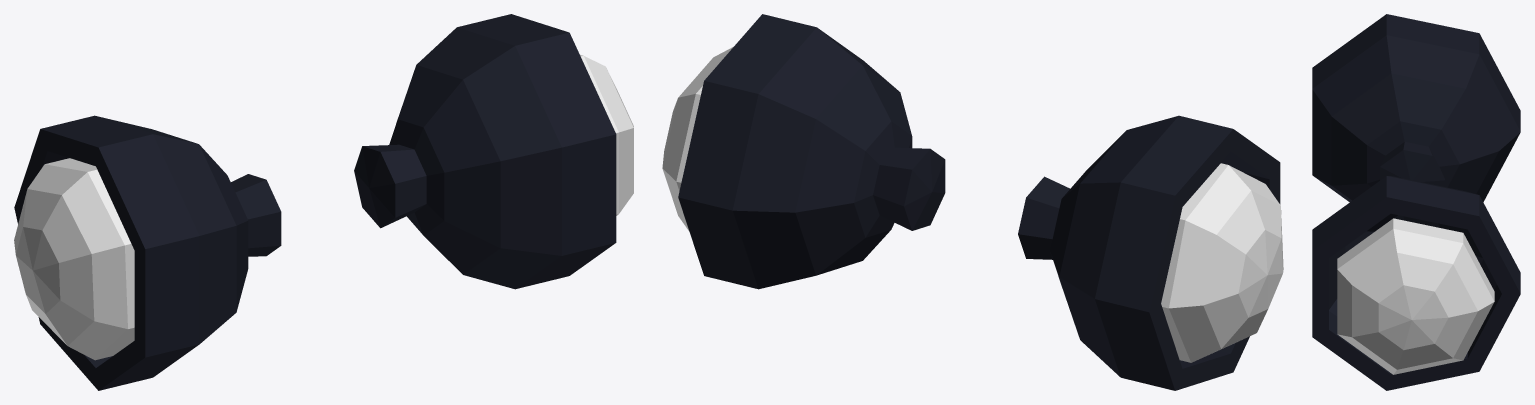
Rendered from WallDoorLight.fbx.
The picture shows the model from 3 angles, left to right: view 1: azimuth 30°, elevation 25°; view 2: azimuth 150°, elevation 25°; view 3: azimuth 270°, elevation 25°; orthographic projection. The views are drawn at different scales.
Visible parts, largest first — view 1: WallDoorLight; view 2: WallDoorLight; view 3: WallDoorLight.
Boxes of the visible parts, left/top/right/bottom form: WallDoorLight: left=14, top=14, right=633, bottom=390; WallDoorLight: left=662, top=14, right=1283, bottom=390; WallDoorLight: left=1312, top=14, right=1520, bottom=390.
Bounding box in the file's own units: 35.62 × 14.14 × 13.78.
